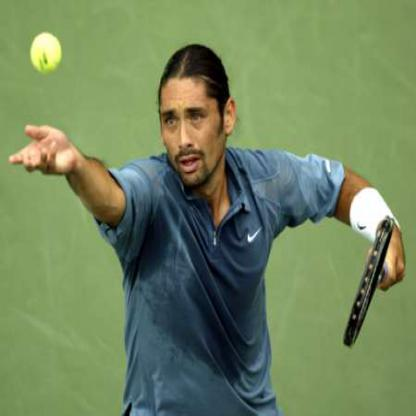face: (158, 51, 228, 185)
